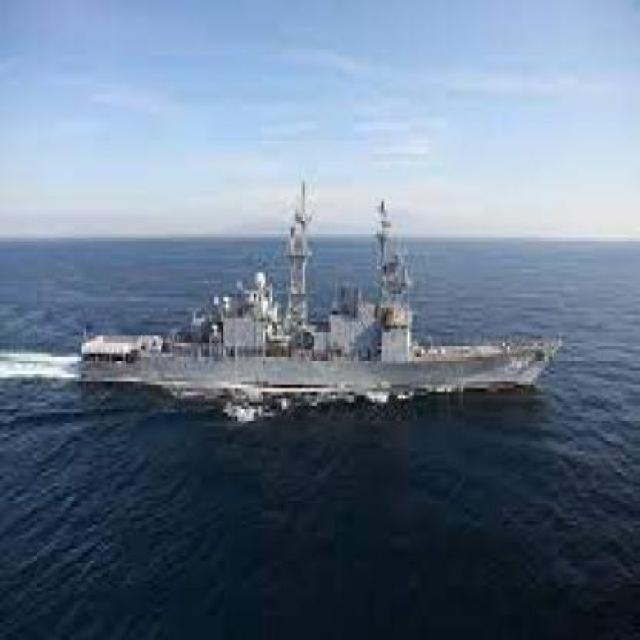warship2: (78, 176, 578, 431)
